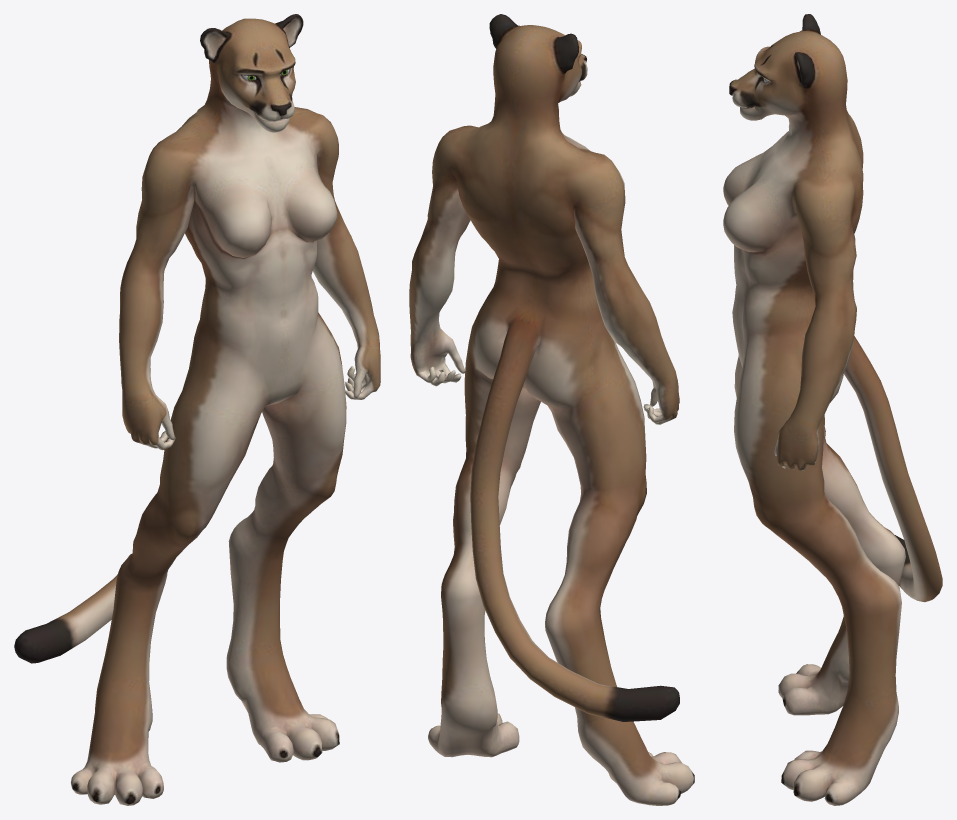
The model's file is CougarDraco.gltf.
The picture shows the model from 3 angles, left to right: view 1: azimuth 30°, elevation 25°; view 2: azimuth 150°, elevation 25°; view 3: azimuth 270°, elevation 25°; orthographic projection. The views are drawn at different scales.
Visible parts, largest first — view 1: LoPoly; view 2: LoPoly; view 3: LoPoly.
Part boxes in pixels (x1,y1,x2,y2): LoPoly: (14,14,380,805); LoPoly: (409,14,694,805); LoPoly: (723,14,942,805).
Bounding box in the file's own units: 53.19 × 120 × 32.72.
2 materials, 2 textured.
